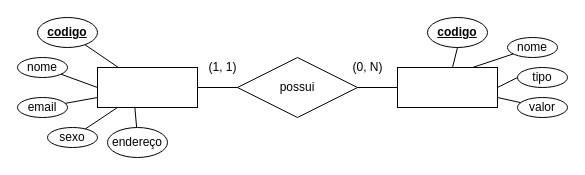
Image size: 585x175. Some labels were removed from this diagram. Here are the shapes that lost their labels. From the top down, the centre of each, then its label:
At (x=147, y=87): "Proprietario".
At (x=447, y=87): "Bens".
